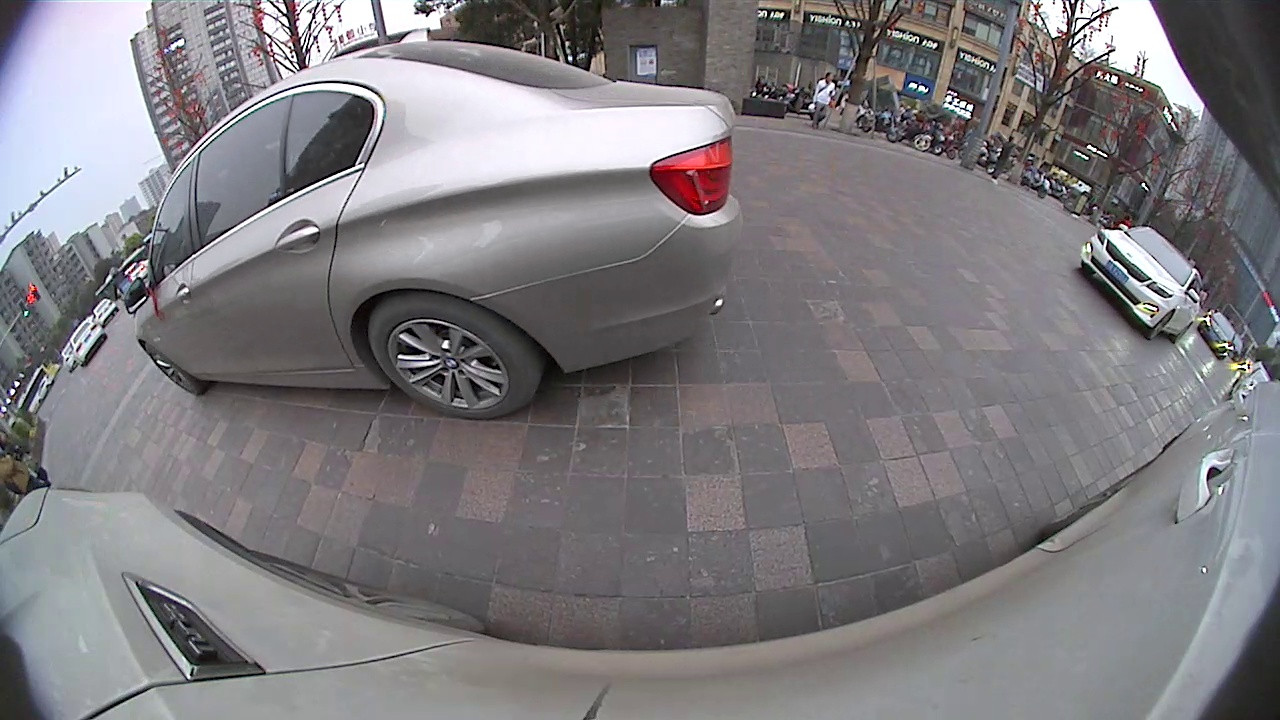car: (129, 36, 744, 424), (1078, 224, 1209, 344), (1197, 310, 1239, 362), (68, 318, 110, 365)
front: (143, 340, 202, 395)
person: (1, 456, 40, 494), (816, 70, 835, 129)
rear: (364, 297, 536, 420)
